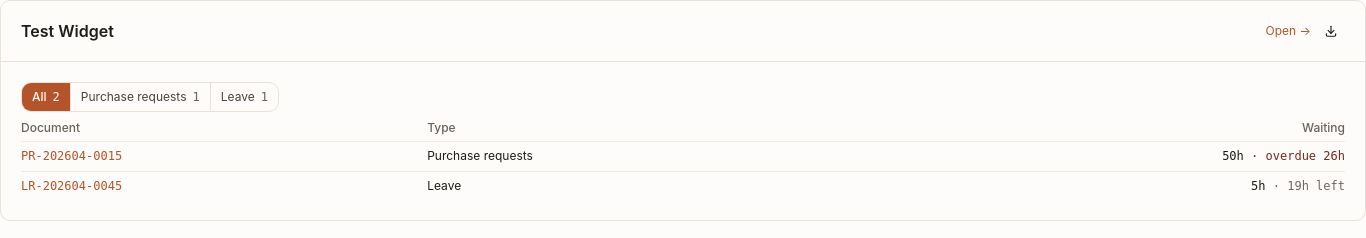
it: LiveDashboardWidget › filters the approvals tile client-side by type
The image size is (1366, 238).
Expected: the link "PR-202604-0015" is shown, left=21, top=149, right=122, bottom=163
Expected: the link "LR-202604-0045" is shown, left=21, top=179, right=122, bottom=193
Click the radio button labelled "Leave 1".
click(244, 97)  # box left=211, top=83, right=278, bottom=111
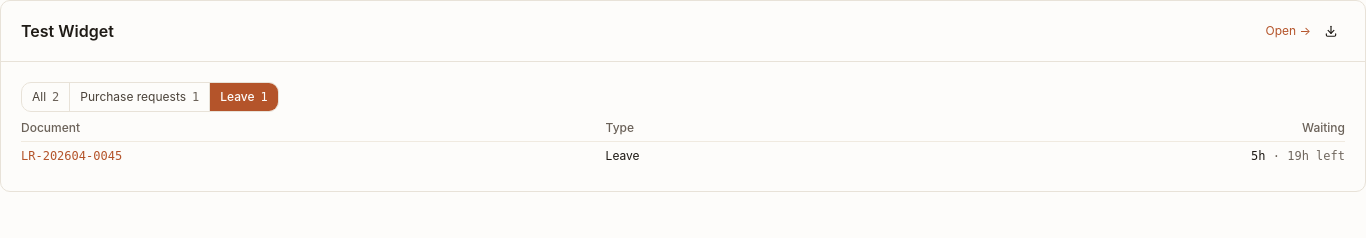
Expected: the link "LR-202604-0045" is shown, left=21, top=149, right=122, bottom=163
Expected: the link "PR-202604-0015" is gone
